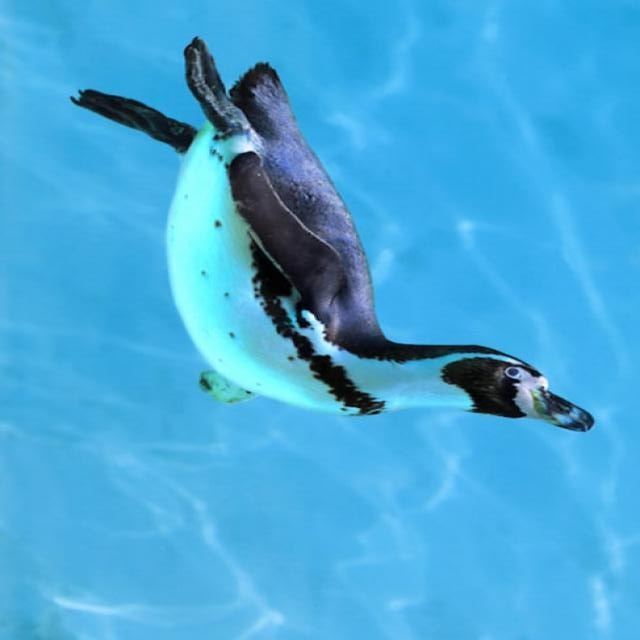penguin: (69, 37, 596, 434)
